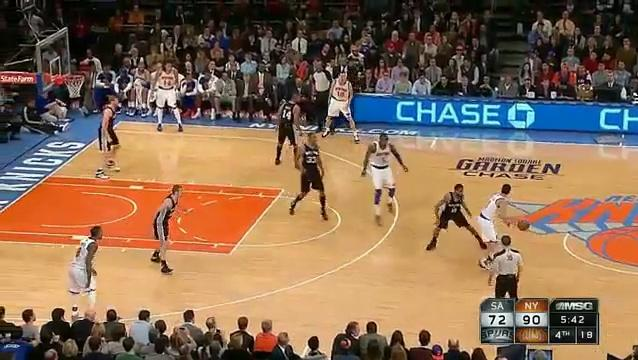Backboard: (40, 32, 69, 95)
Ball: (517, 221, 529, 230)
Basket: (64, 74, 87, 100)
Person: (360, 130, 410, 226), (424, 181, 487, 253), (288, 132, 332, 222), (149, 183, 191, 275), (67, 221, 103, 314), (93, 94, 126, 181), (326, 71, 363, 144), (153, 57, 184, 136), (274, 91, 304, 168), (481, 181, 517, 243)
Referee: (484, 234, 522, 302), (309, 60, 332, 122)
